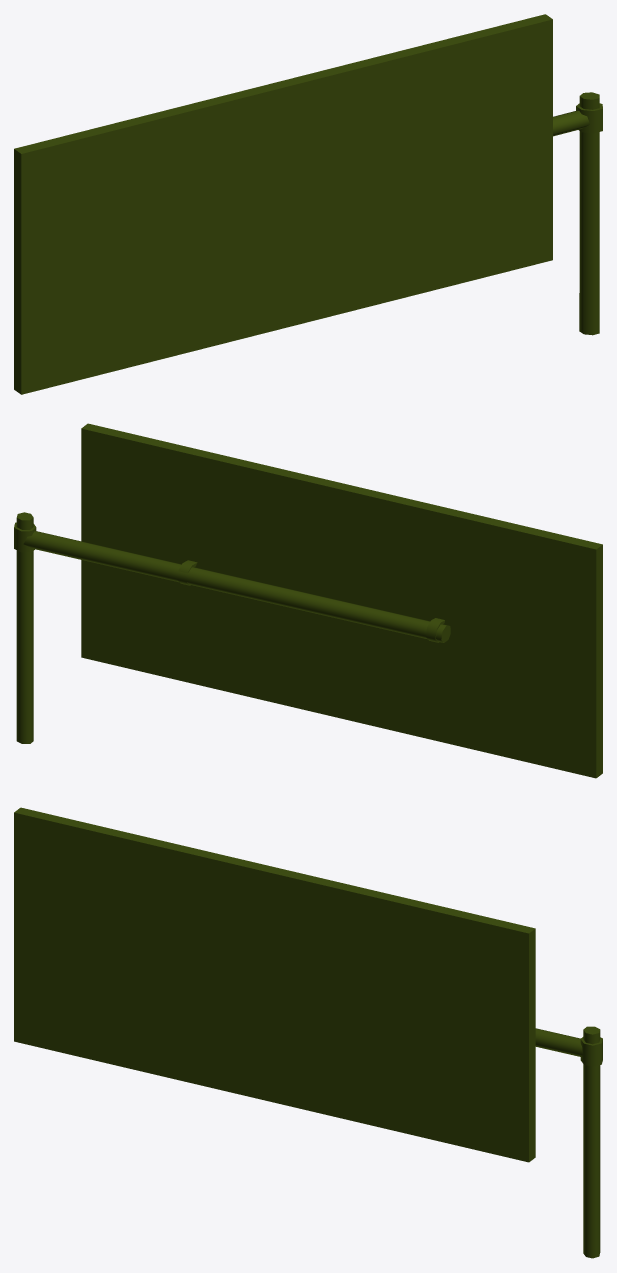
File: T2_SpeedSigns3R_M.fbx
The picture shows the model from 3 angles, top to bottom: view 1: azimuth 30°, elevation 25°; view 2: azimuth 150°, elevation 25°; view 3: azimuth 330°, elevation 25°; orthographic projection. The views are drawn at different scales.
Visible parts, largest first — view 1: T2_SpeedSigns3R; view 2: T2_SpeedSigns3R; view 3: T2_SpeedSigns3R.
Part boxes in pixels (x1,y1,x2,y2): T2_SpeedSigns3R: [14, 14, 602, 394]; T2_SpeedSigns3R: [14, 423, 602, 778]; T2_SpeedSigns3R: [14, 807, 602, 1258].
Size of the model in its own units: 0.9155 by 0.489 by 0.069.
